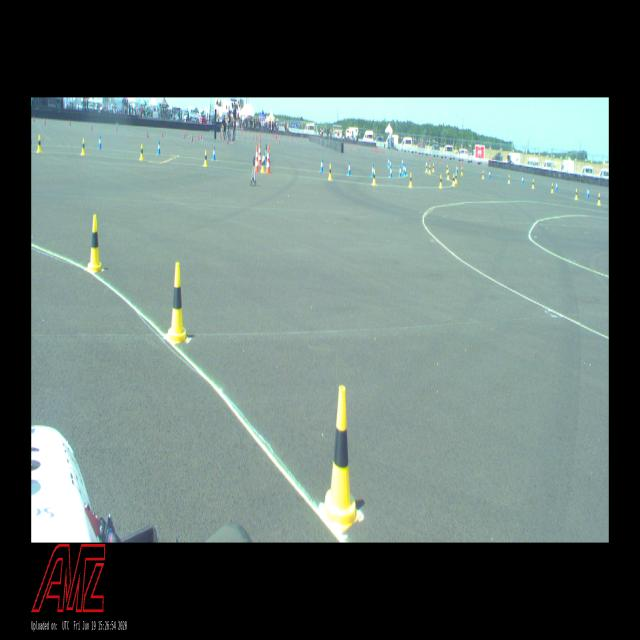blue_cone: (347, 162, 351, 176), (98, 135, 102, 149), (212, 146, 215, 161), (320, 158, 323, 172), (389, 166, 392, 178), (586, 188, 590, 197), (404, 164, 407, 176), (158, 141, 160, 155), (372, 164, 374, 177), (402, 162, 404, 175), (521, 175, 524, 183), (399, 165, 401, 177), (389, 159, 391, 169), (556, 181, 558, 190), (456, 164, 458, 173), (387, 157, 389, 166), (402, 158, 404, 166), (488, 171, 490, 178), (426, 160, 426, 168)
large_orange_cone: (266, 146, 271, 174), (255, 145, 259, 172), (258, 142, 262, 166), (268, 144, 270, 166)
yellow_cone: (321, 386, 360, 532), (168, 262, 188, 346), (86, 214, 102, 274), (36, 135, 42, 154), (139, 143, 144, 160), (81, 138, 86, 154), (204, 150, 208, 167), (328, 163, 332, 180), (597, 193, 601, 206), (261, 157, 264, 173), (372, 169, 375, 184), (409, 173, 412, 187), (439, 174, 442, 188), (452, 174, 455, 186), (575, 189, 578, 199), (428, 165, 431, 174), (425, 163, 428, 172), (455, 172, 457, 183), (482, 170, 484, 179), (508, 174, 510, 183), (447, 170, 449, 179), (551, 183, 553, 192), (460, 167, 462, 176), (446, 164, 448, 173), (432, 163, 434, 171), (532, 180, 534, 188)
